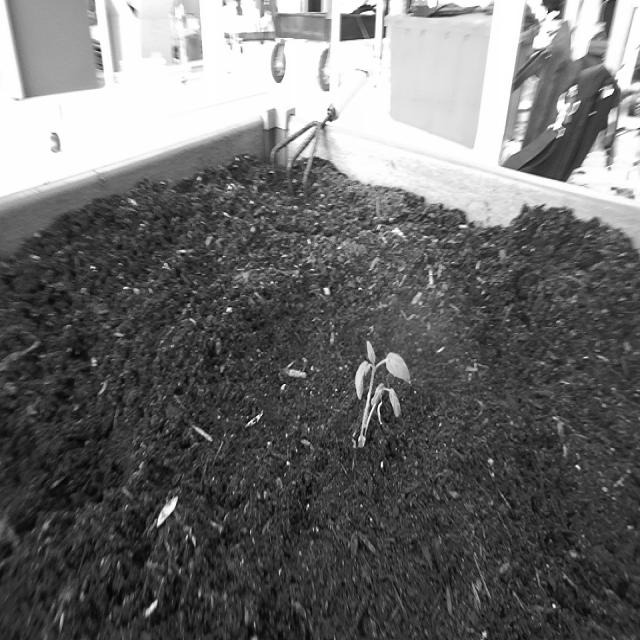Healthy: (354, 338, 413, 455)
